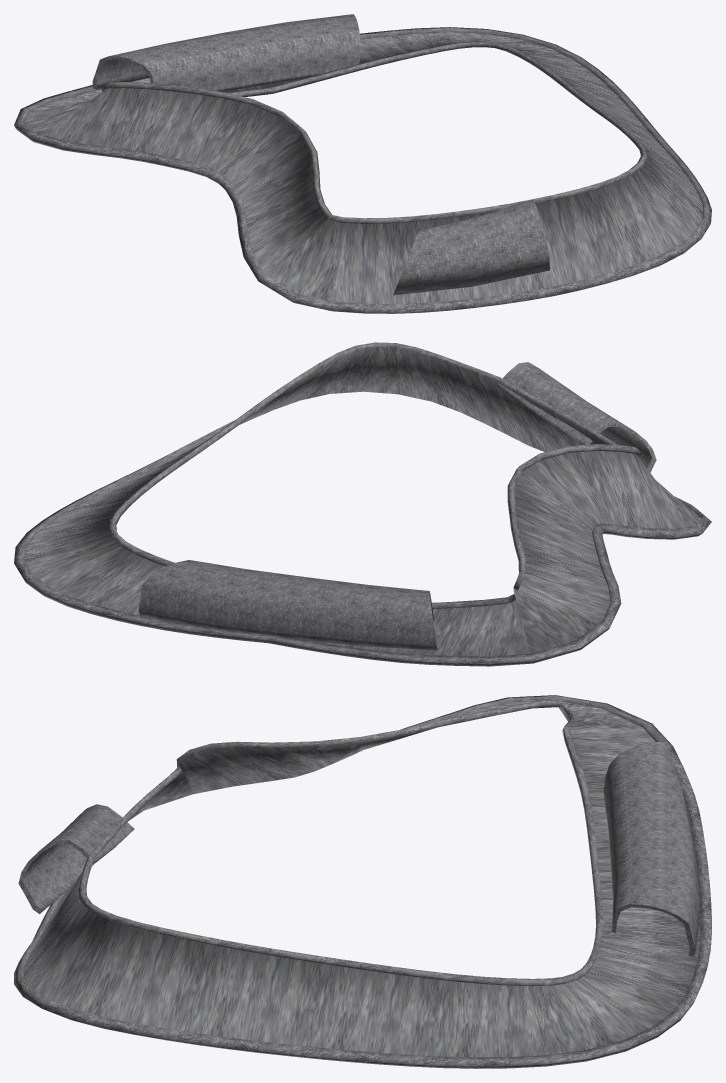
Rendered from OldHillMap_walls.fbx.
3 renders of one model, top to bottom at view 1: azimuth 30°, elevation 25°; view 2: azimuth 150°, elevation 25°; view 3: azimuth 270°, elevation 25°, orthographic. The views are drawn at different scales.
Visible parts, largest first — view 1: loftedSurface1, polySurface1, polySurface2; view 2: loftedSurface1, polySurface1, polySurface2; view 3: loftedSurface1, polySurface1, polySurface2.
Part boxes in pixels (left/top/right/bottom): loftedSurface1: left=14, top=27, right=711, bottom=313; polySurface1: left=92, top=14, right=360, bottom=91; polySurface2: left=393, top=199, right=549, bottom=295; loftedSurface1: left=14, top=342, right=711, bottom=666; polySurface1: left=138, top=560, right=437, bottom=650; polySurface2: left=496, top=362, right=656, bottom=472; loftedSurface1: left=14, top=695, right=711, bottom=1068; polySurface1: left=603, top=742, right=700, bottom=956; polySurface2: left=18, top=804, right=134, bottom=914.
Bounding box in the file's own units: 239 × 48.87 × 227.
Materials: 1 (1 with a texture image).
